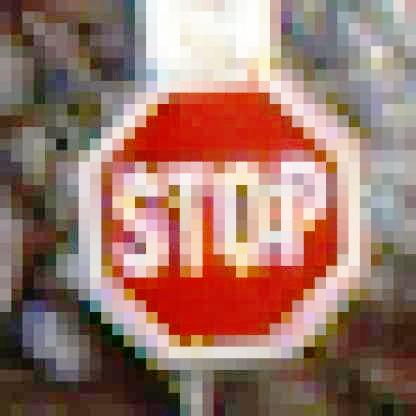Stop Sign: (80, 74, 364, 360)
